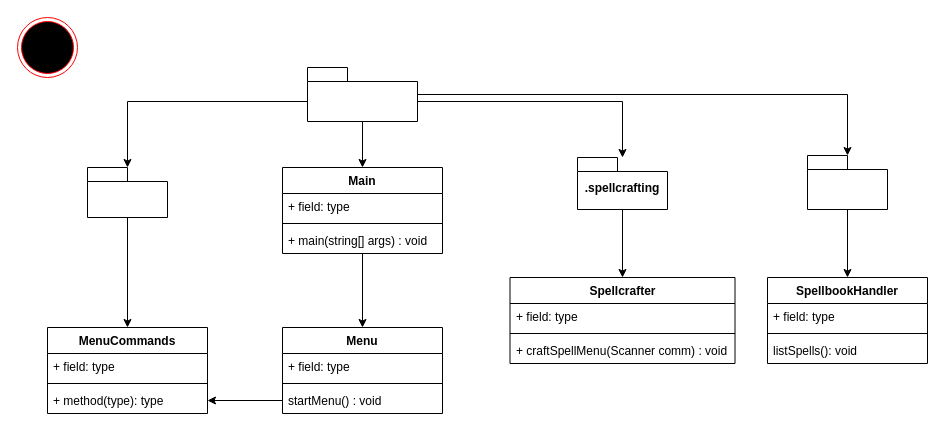
This 945x434 diagram has some shape labels left out. The shapes that lost their labels are listed below. From the top down, each one's centre as x and y in pixels, then its label:
At point (362, 94): "src.main.java".
At point (127, 192): ".commands".
At point (847, 182): ".spellbook".
